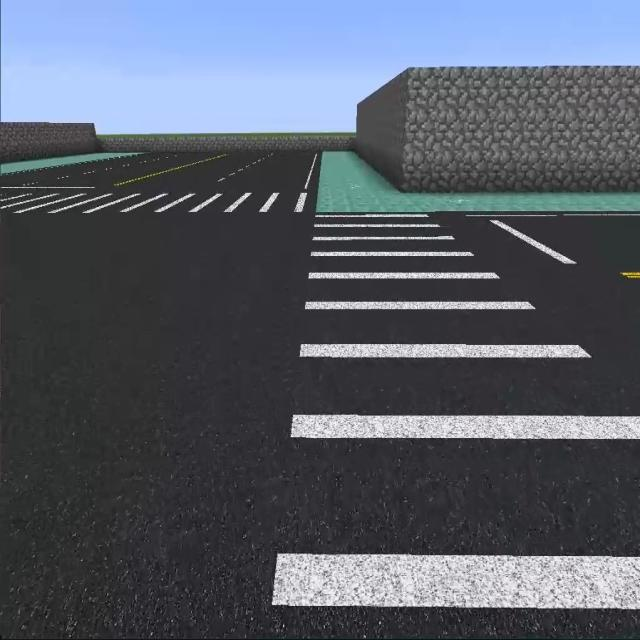crosswalk: (264, 214, 636, 628), (1, 182, 314, 223)
road: (5, 215, 306, 630), (449, 212, 636, 388), (3, 146, 323, 187)
sidewalk: (316, 152, 639, 212), (0, 153, 139, 174)
